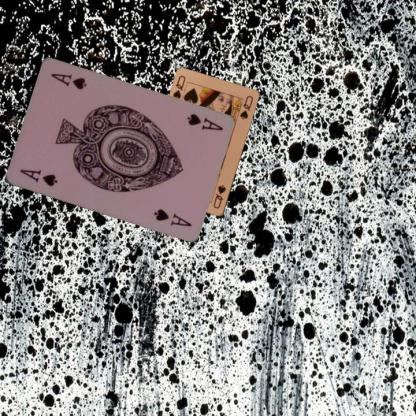As: (17, 166, 59, 188), (184, 111, 224, 132)
Qs: (170, 73, 186, 101), (211, 183, 227, 210)
